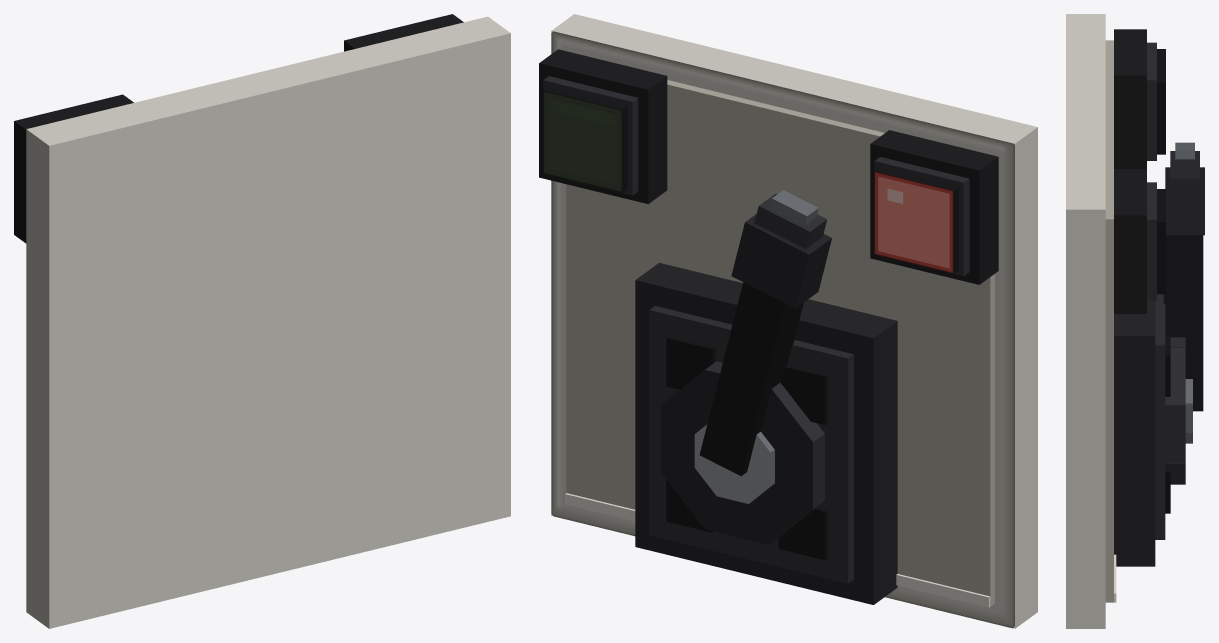
File: lever_switch_close.obj
3 renders of one model, left to right at view 1: azimuth 30°, elevation 25°; view 2: azimuth 150°, elevation 25°; view 3: azimuth 270°, elevation 25°, orthographic. The views are drawn at different scales.
Parts seen in each view (by area): view 1: Panel, LampRed, LampGreen; view 2: Panel, Base, Lever, LampGreen, LampRed; view 3: Panel, Base, Lever, LampGreen, LampRed.
Boxes of the visible parts, x1,y1,x2,y2 form: Panel: (26, 16, 510, 628); LampRed: (14, 94, 133, 243); LampGreen: (344, 14, 463, 51); Panel: (551, 14, 1037, 628); Base: (635, 262, 897, 604); Lever: (699, 190, 831, 476); LampGreen: (539, 49, 667, 203); LampRed: (870, 130, 998, 284); Panel: (1066, 14, 1116, 628); Base: (1114, 294, 1192, 566); Lever: (1163, 142, 1204, 411); LampGreen: (1114, 169, 1165, 313); LampRed: (1114, 29, 1165, 168).
Size of the model in its own units: 0.875 by 0.875 by 0.2625.
Materials: 1 (1 with a texture image).
